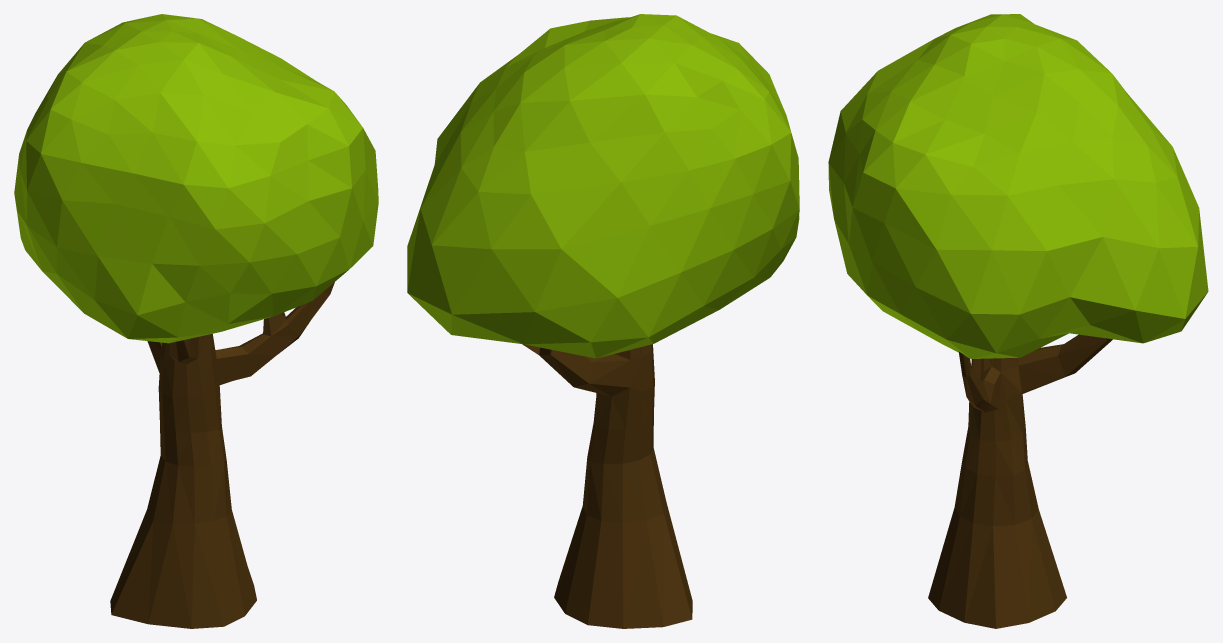
The model's file is TreeLeafsLOD0.fbx.
The picture shows the model from 3 angles, left to right: view 1: azimuth 30°, elevation 25°; view 2: azimuth 150°, elevation 25°; view 3: azimuth 270°, elevation 25°; orthographic projection. The views are drawn at different scales.
Parts seen in each view (by area): view 1: TreeLeafsLOD0; view 2: TreeLeafsLOD0; view 3: TreeLeafsLOD0.
Part boxes in pixels (left/top/right/bottom): TreeLeafsLOD0: left=14, top=14, right=378, bottom=628; TreeLeafsLOD0: left=407, top=14, right=799, bottom=628; TreeLeafsLOD0: left=828, top=14, right=1208, bottom=628.
Size of the model in its own units: 421 by 677 by 420.
